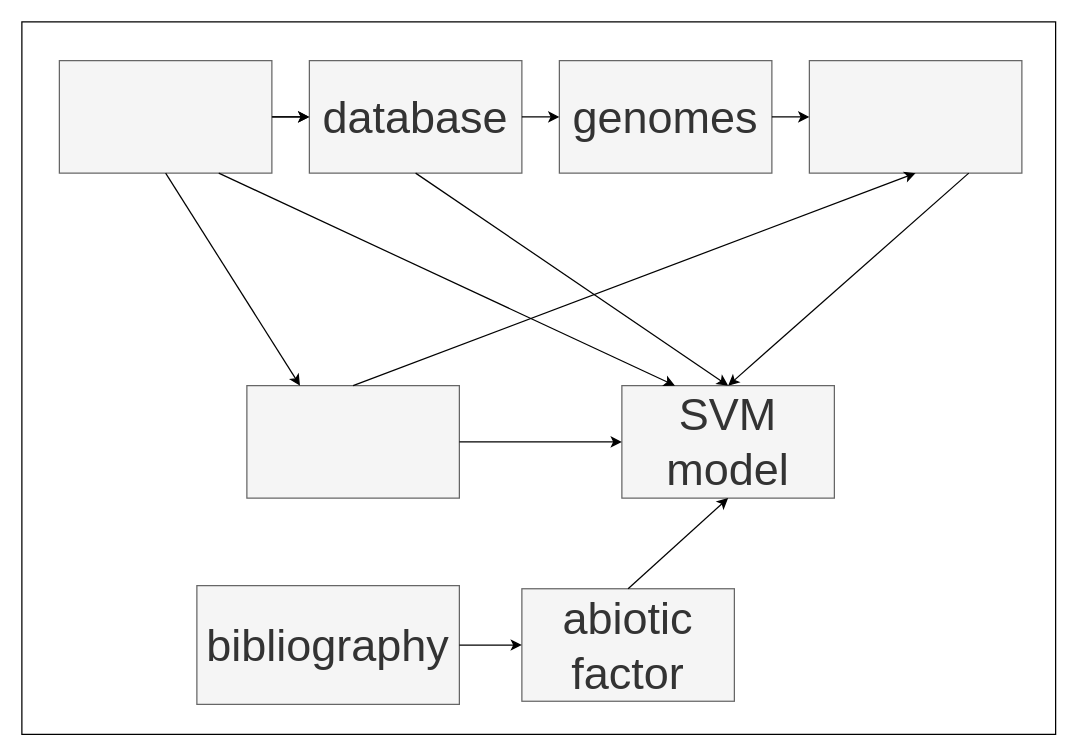
Some shapes in this 1078 by 756 pixel diagram are drawn without their labels. Here are the shapes that lost their labels. From the top down, the box of each, then its label:
(58, 59, 272, 173): Home
(808, 59, 1022, 173): kmers
(246, 384, 459, 498): cluster
